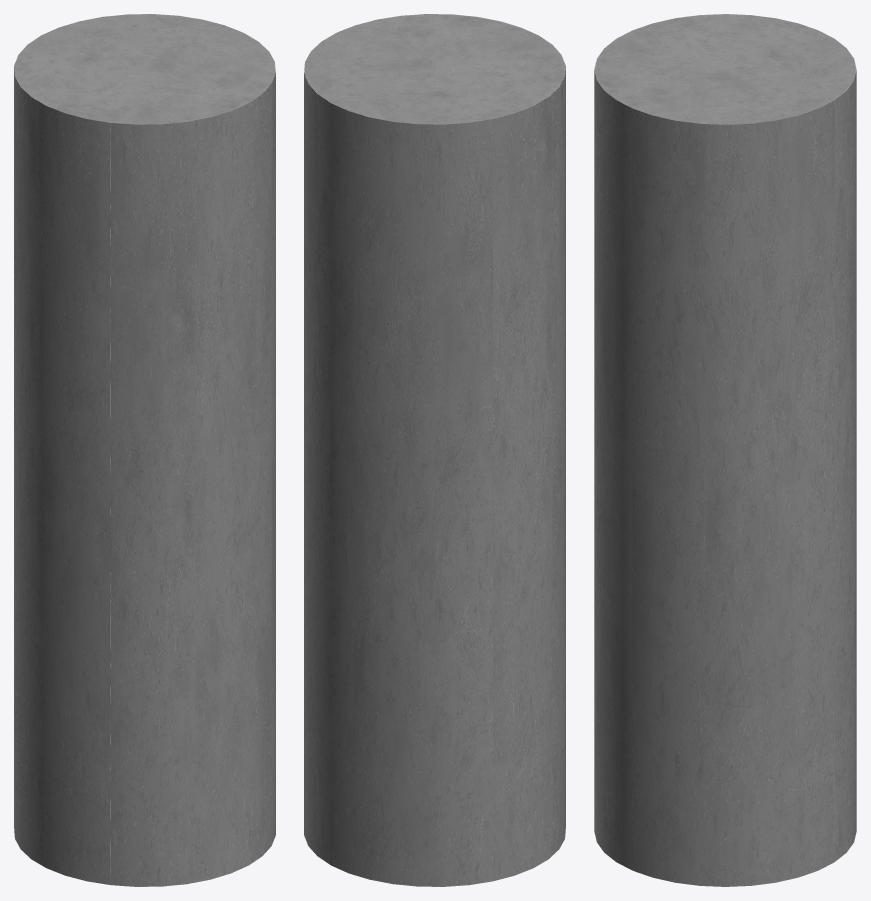
Rendered from poll1.fbx.
3 renders of one model, left to right at view 1: azimuth 30°, elevation 25°; view 2: azimuth 150°, elevation 25°; view 3: azimuth 270°, elevation 25°, orthographic.
Visible parts, largest first — view 1: poll1; view 2: poll1; view 3: poll1.
Part boxes in pixels (<box>): poll1: <box>14,14,275,886</box>; poll1: <box>304,14,565,886</box>; poll1: <box>594,14,856,886</box>.
Size of the model in its own units: 32.64 by 105 by 32.64.
